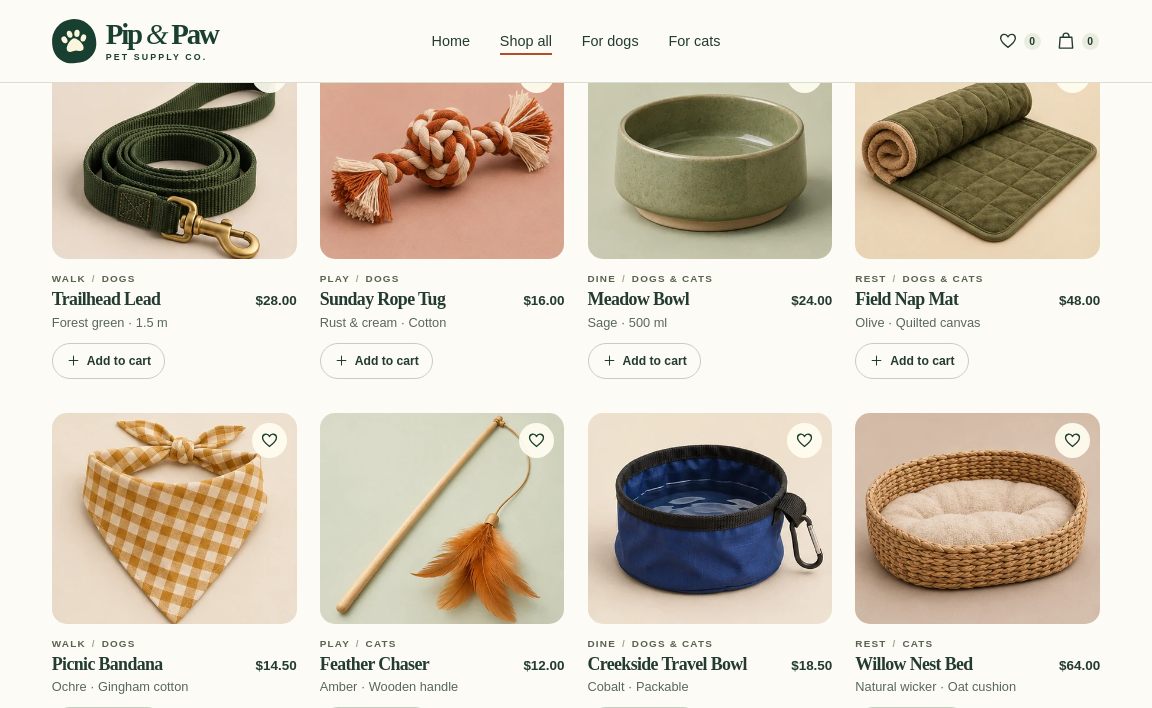
Scenario: shopping through the rendered application › adds repeated products into one cart line and recalculates prices when quantity changes
This screenshot has width=1152, height=708.
(page scrolled)
Click the button with aria-label "Add Trailhead Lead to cart" at (108,361), box [52, 343, 165, 379]
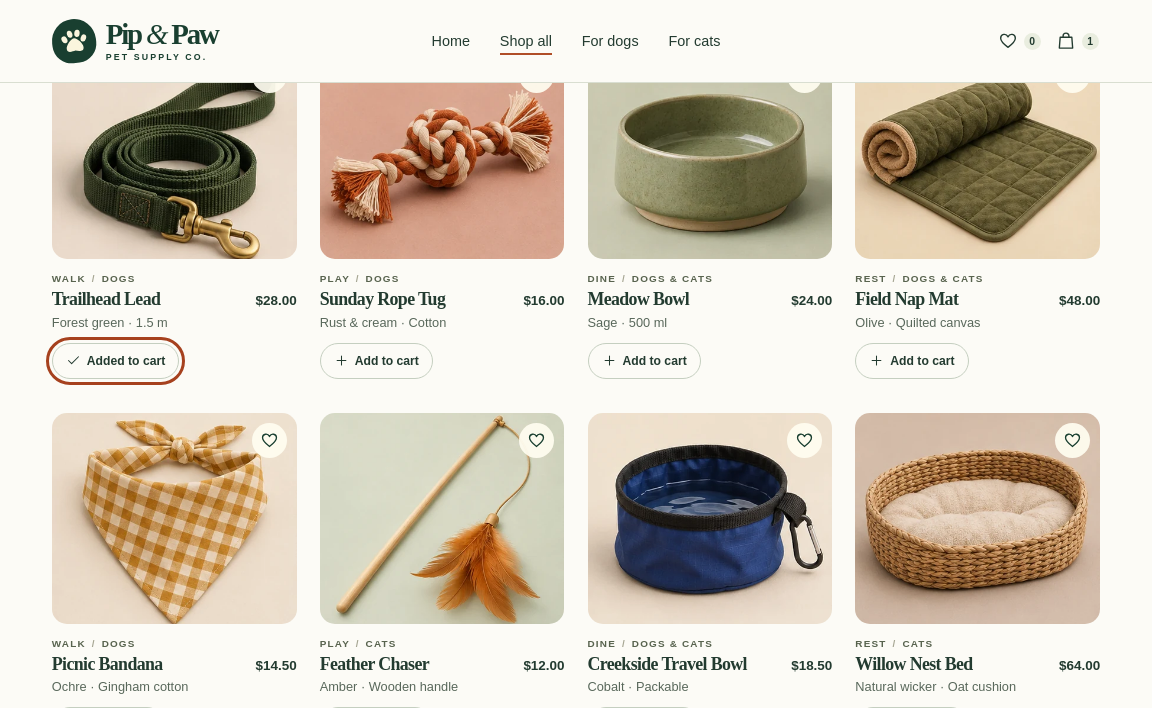
Click the button with aria-label "Add Trailhead Lead to cart" at (116,361), box [52, 343, 179, 379]
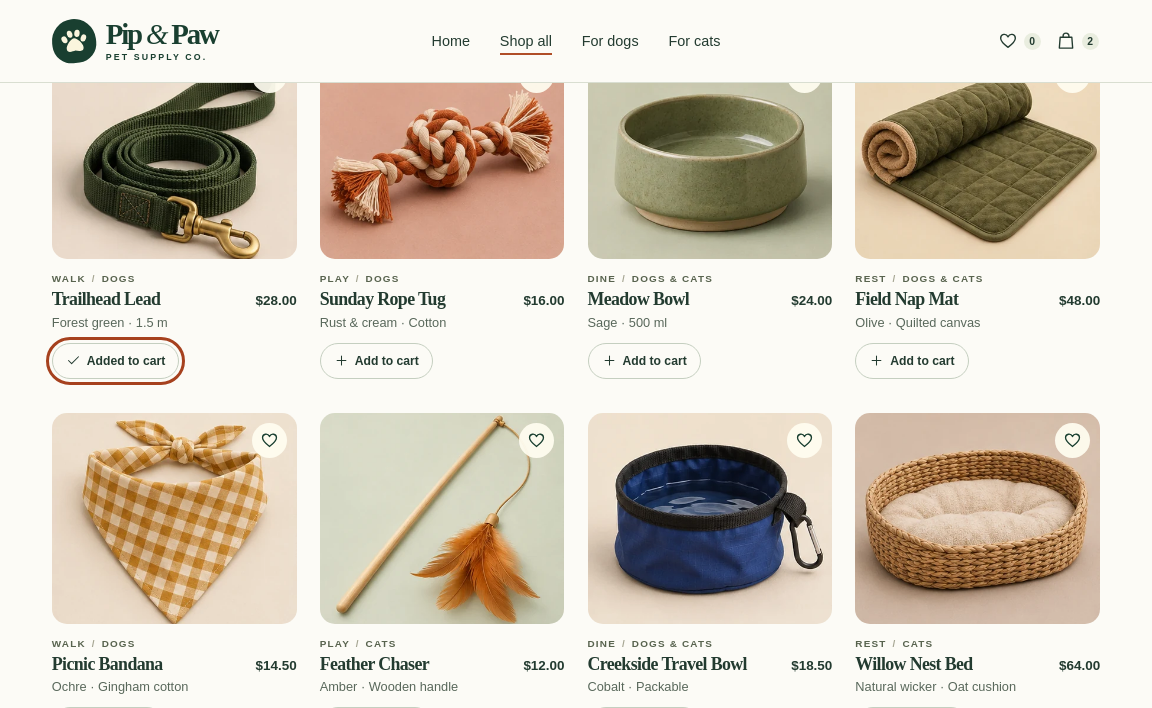
Click the link named "Cart, 2 items" at (1077,41), box [1056, 31, 1099, 51]
(page scrolled)
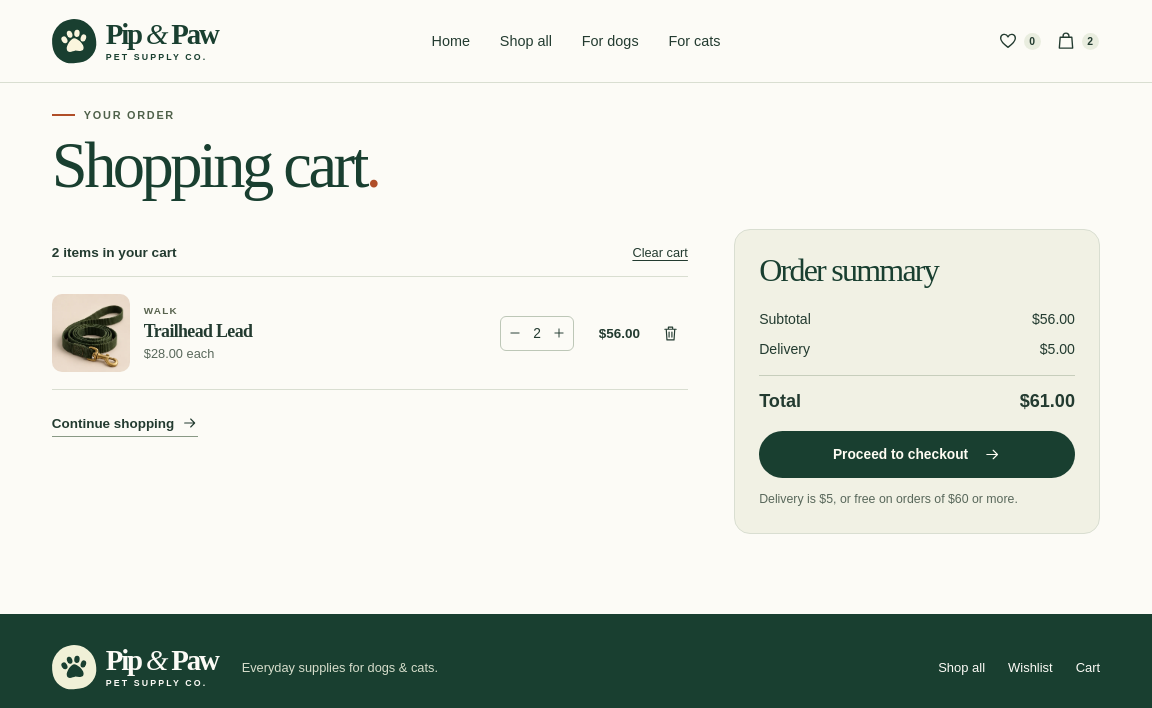
Expected: the text "$61.00" is shown, [1020, 391, 1075, 412]
Click the button named "Increase Trailhead Lead quantity" at (559,333), box [546, 317, 573, 350]
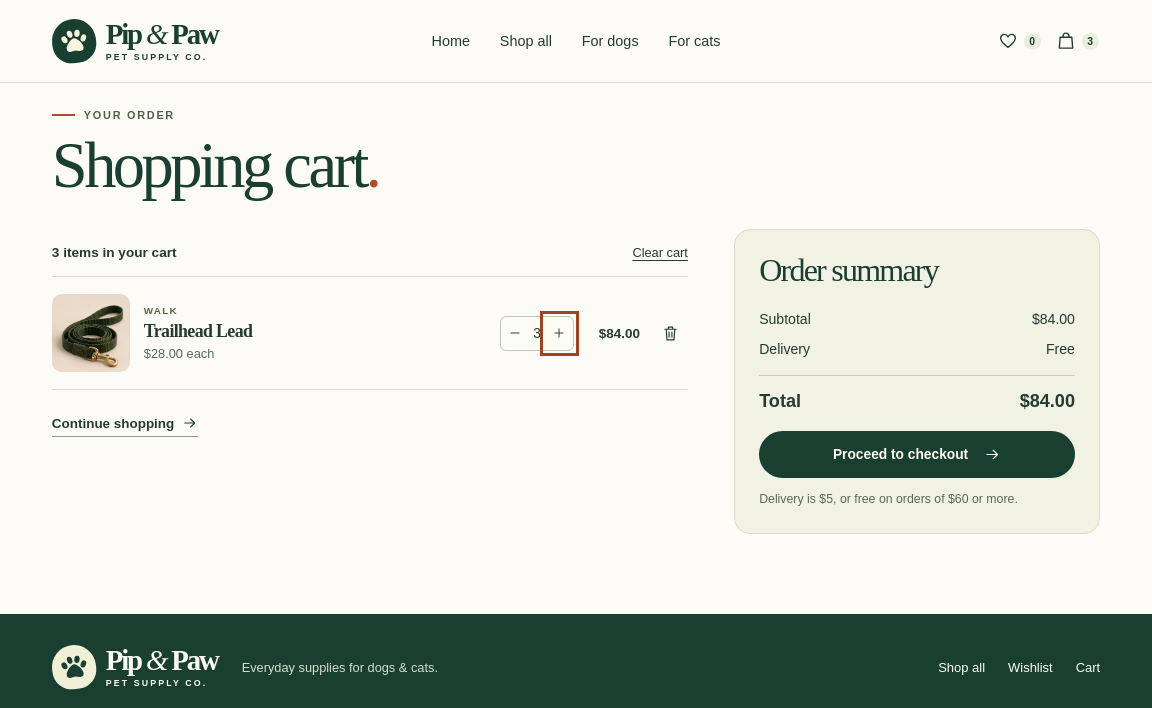
Expected: the text "$84.00" is shown 2 times, [1032, 311, 1075, 327]; [1020, 391, 1075, 412]
Expected: the text "Free" is shown, [1046, 341, 1075, 357]
Click the button named "Decrease Trailhead Lead quantity" at (515,333), box [501, 317, 528, 350]
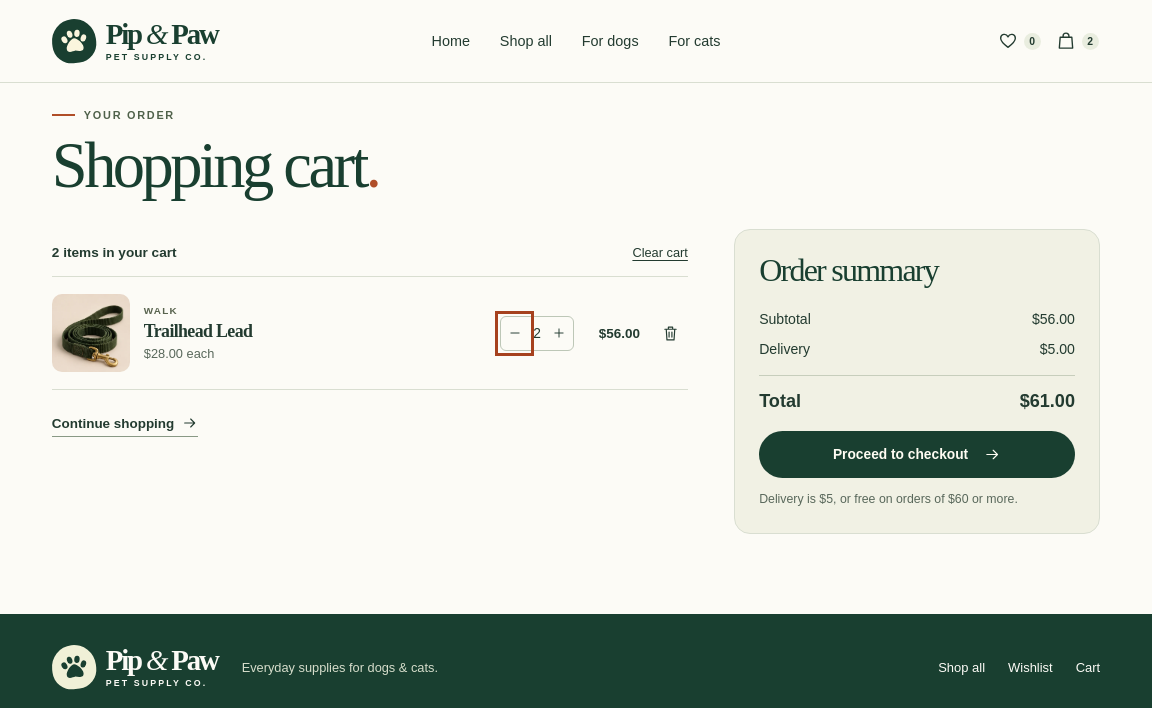
Click the button named "Remove Trailhead Lead from cart" at (671,333), box [654, 316, 688, 350]
(page scrolled)
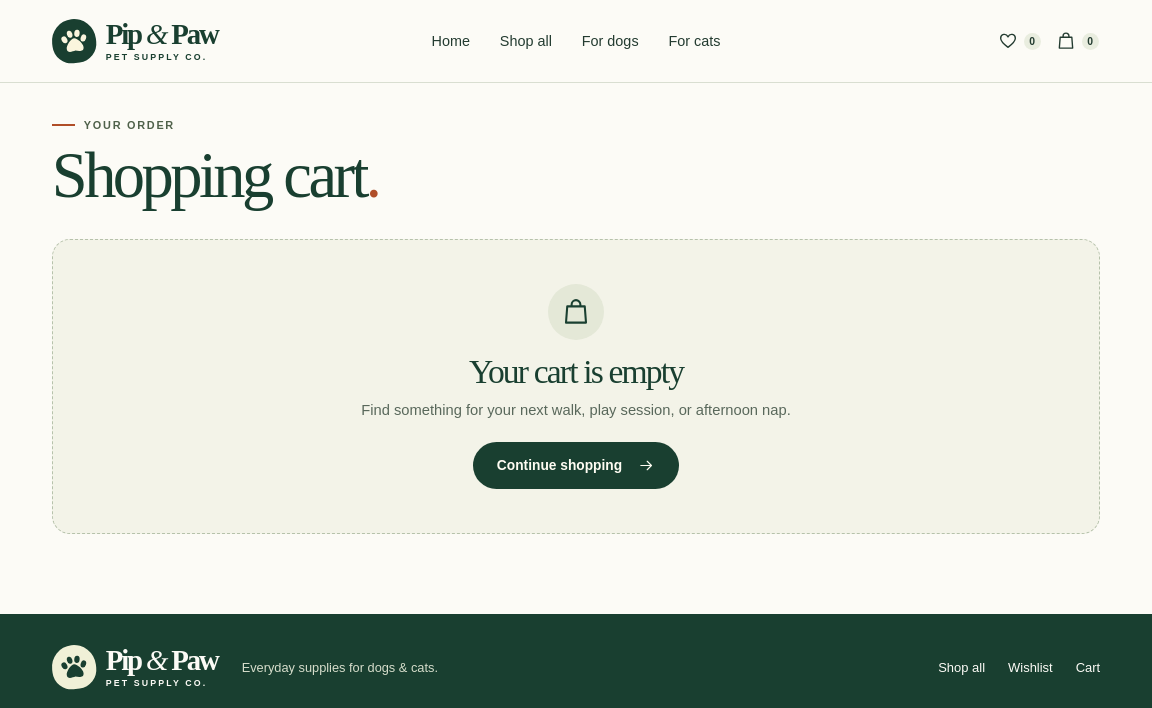
Expected: the heading "Your cart is empty" is shown, [469, 353, 683, 390]
